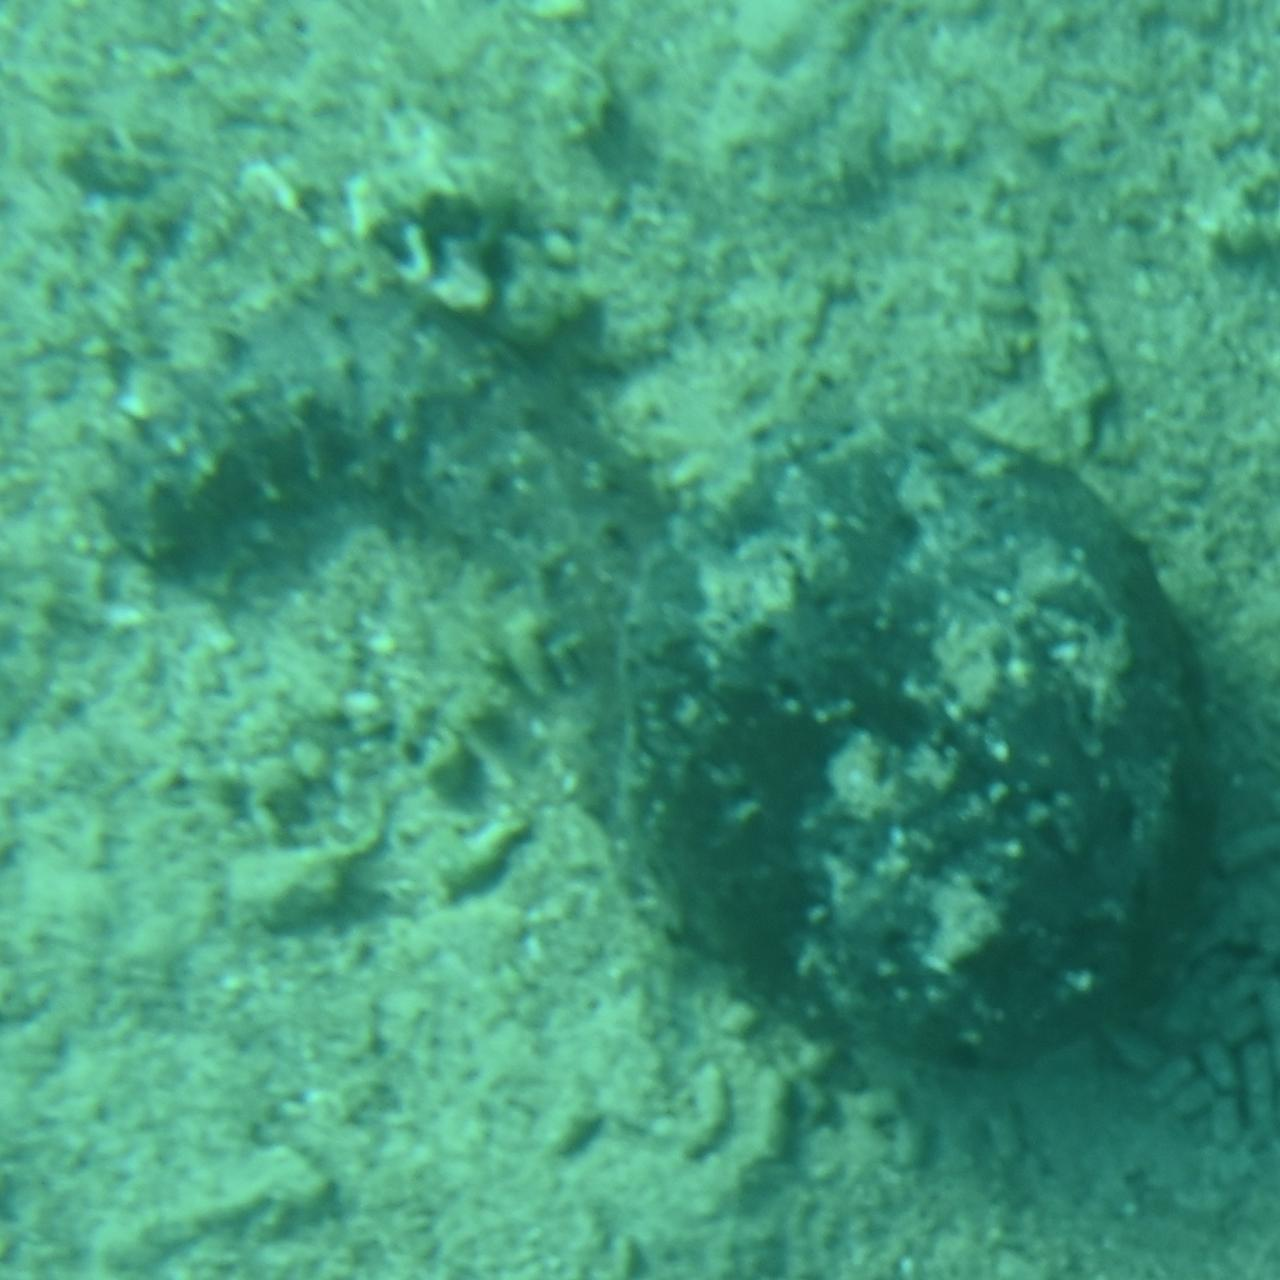Holothuria tubulosa: (74, 260, 668, 803)
Keratosa -cfr Sarcotragus-: (602, 416, 1217, 1082)
